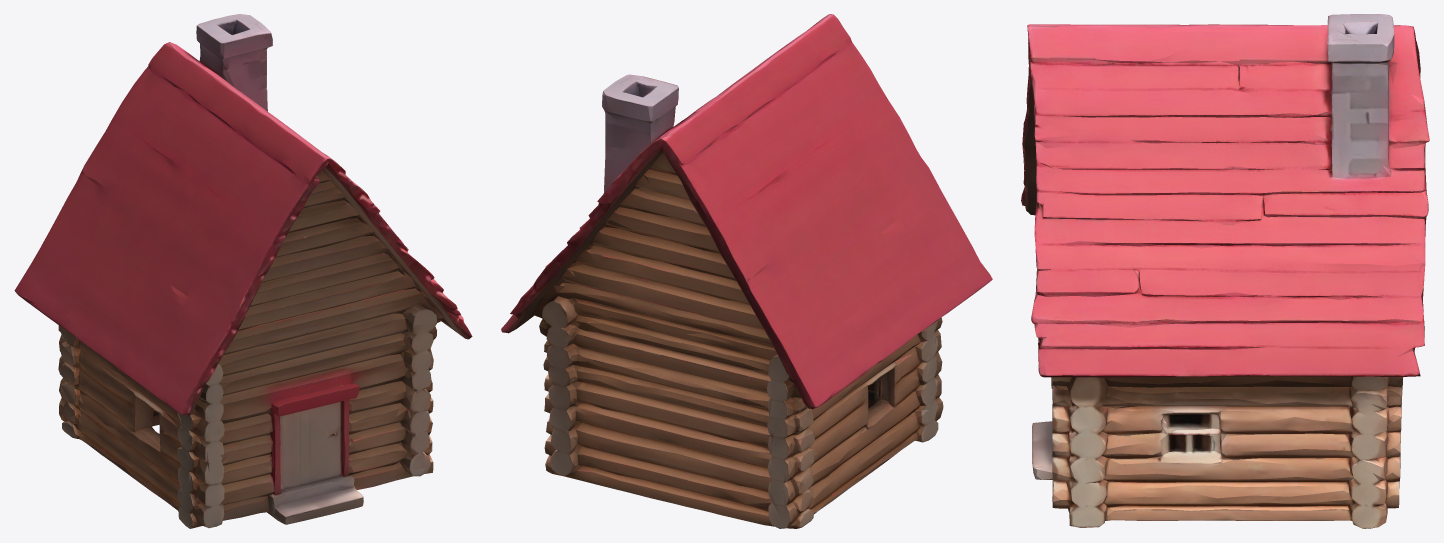
File: hunters_cabin.glb
3 views of the same model, side by side, from view 1: azimuth 30°, elevation 25°; view 2: azimuth 150°, elevation 25°; view 3: azimuth 270°, elevation 25° (orthographic). The views are drawn at different scales.
Visible parts, largest first — view 1: hunters_cabin; view 2: hunters_cabin; view 3: hunters_cabin.
Part boxes in pixels (x1=…): hunters_cabin: x1=14, y1=14, x2=472, y2=528; hunters_cabin: x1=501, y1=14, x2=992, y2=528; hunters_cabin: x1=1021, y1=14, x2=1429, y2=528.
Size of the model in its own units: 1.58 by 1.91 by 1.55.
1 material, 1 textured.
